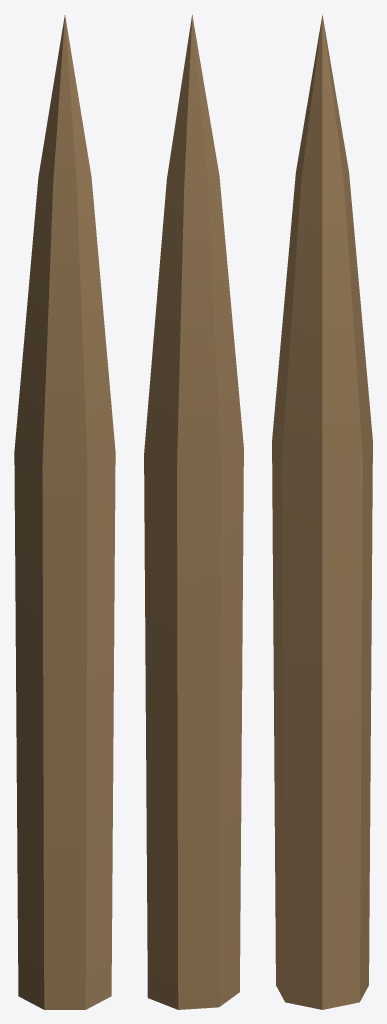
File: wooden-stake.glb
The picture shows the model from 3 angles, left to right: view 1: azimuth 90°, elevation 25°; view 2: azimuth 150°, elevation 25°; view 3: azimuth 270°, elevation 25°; orthographic projection.
Parts seen in each view (by area): view 1: wooden-stake; view 2: wooden-stake; view 3: wooden-stake.
Boxes of the visible parts, x1,y1,x2,y2 form: wooden-stake: (14,15,115,1009); wooden-stake: (144,15,243,1009); wooden-stake: (272,14,372,1009).
Size of the model in its own units: 0.0722 by 0.8 by 0.0741.
